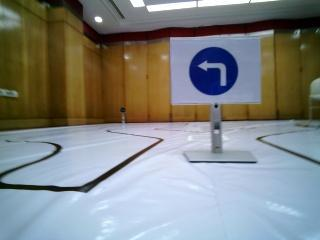left: (173, 37, 260, 108)
